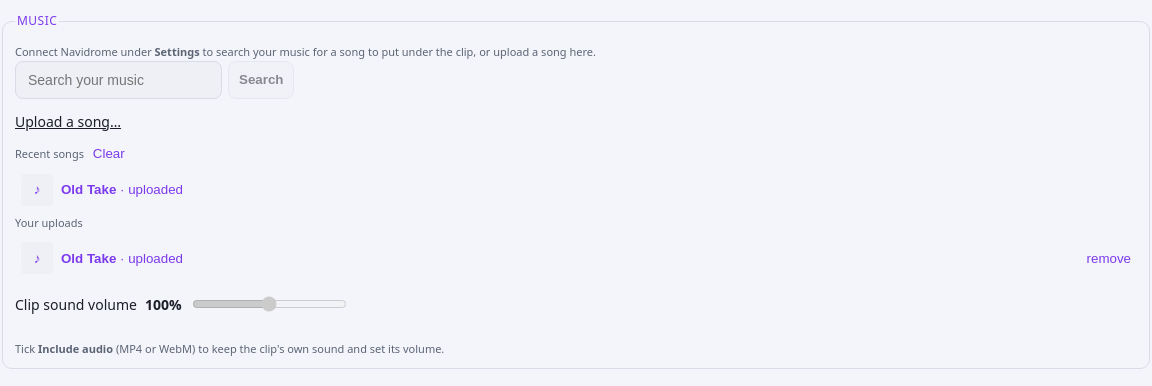
Test: the Music box › removes an upload from the list and from the recent songs
Check: the list named "Recent songs" shows "Old Take", box [15, 172, 1137, 208]
Click the button with aria-label "Remove Old Take". click: (1109, 258)
box: [1080, 248, 1137, 268]
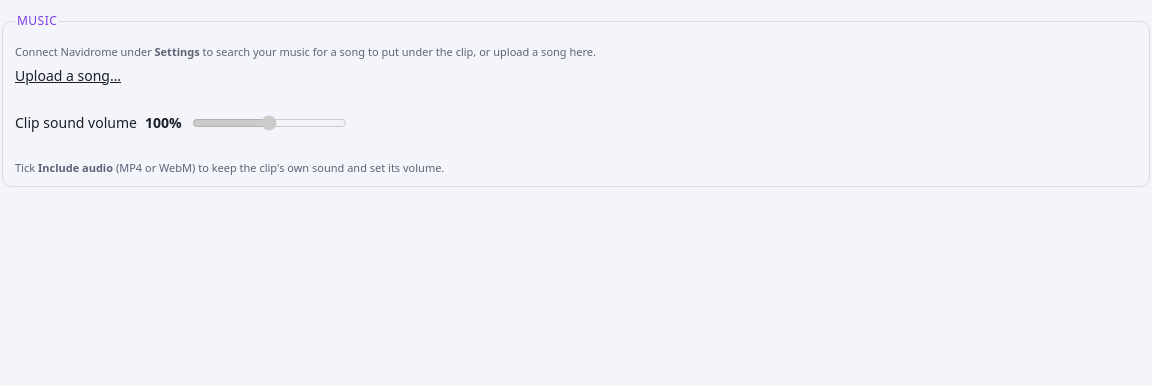
Check: the text "Your uploads" is gone
Check: the list "Recent songs" is gone
